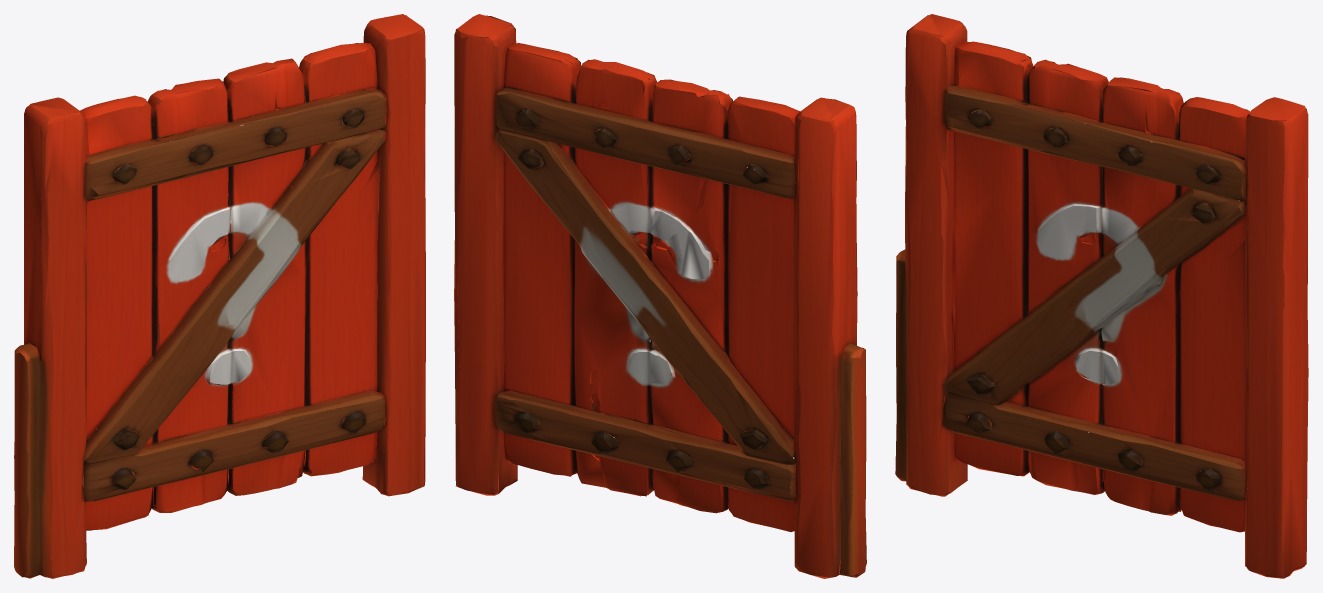
The model's file is PROP_C1_DOOR_game.glb.
3 views of the same model, side by side, from view 1: azimuth 30°, elevation 25°; view 2: azimuth 150°, elevation 25°; view 3: azimuth 330°, elevation 25° (orthographic).
Parts seen in each view (by area): view 1: PROP_C1_DOOR; view 2: PROP_C1_DOOR; view 3: PROP_C1_DOOR.
Boxes of the visible parts, box(x1,y1,x2,y2) form: PROP_C1_DOOR: box(14, 14, 425, 578); PROP_C1_DOOR: box(454, 14, 866, 578); PROP_C1_DOOR: box(895, 14, 1308, 578).
Bounding box in the file's own units: 2.45 × 2.7 × 0.3481.
1 material, 1 textured.
